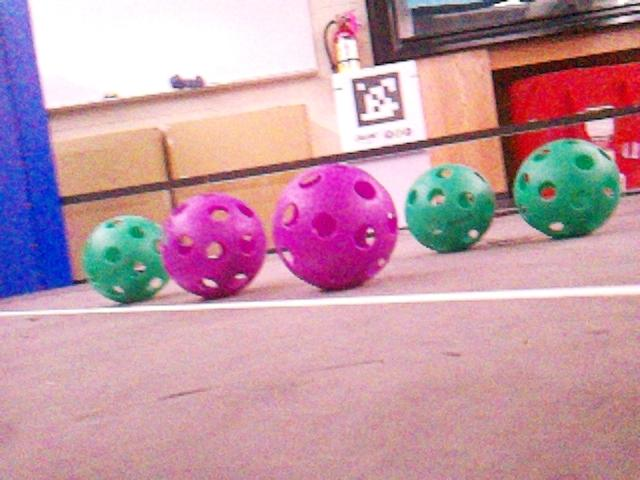Green: (511, 138, 620, 238), (403, 163, 495, 251), (80, 215, 168, 304)
Purple: (270, 162, 399, 288), (160, 192, 268, 298)
